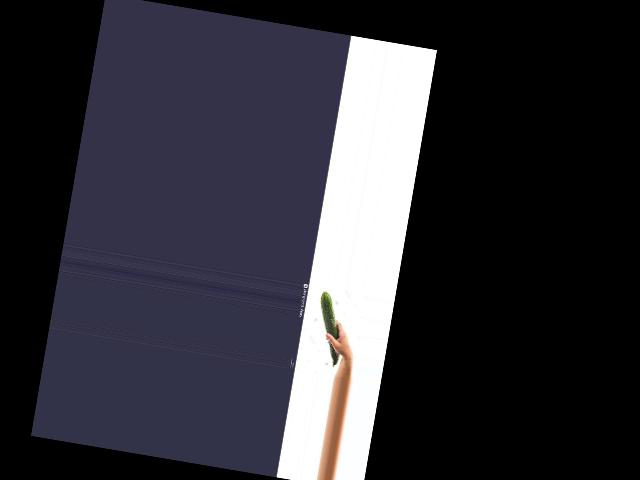cucumber: (309, 291, 349, 368)
